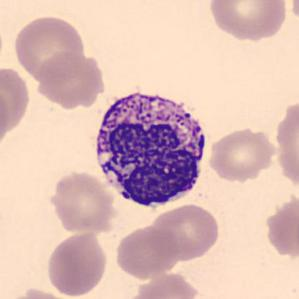Basophil: (89, 82, 212, 215)
RBC: (11, 13, 87, 82), (46, 169, 117, 235), (33, 50, 109, 110), (148, 202, 222, 262), (44, 230, 110, 297), (206, 125, 278, 183), (112, 224, 180, 279), (206, 0, 290, 42), (0, 62, 32, 146), (262, 190, 298, 264), (273, 98, 299, 188), (126, 270, 201, 299), (4, 286, 79, 299), (0, 78, 12, 152), (286, 0, 298, 30), (0, 19, 5, 73)
